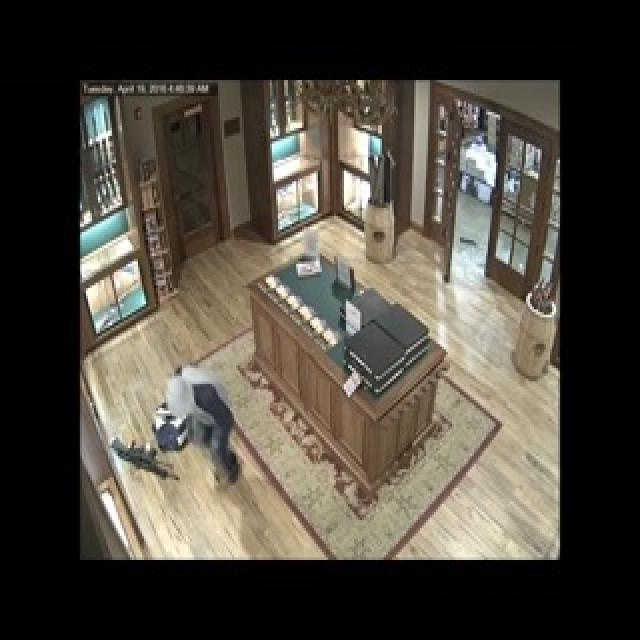thief: (142, 370, 235, 507)
